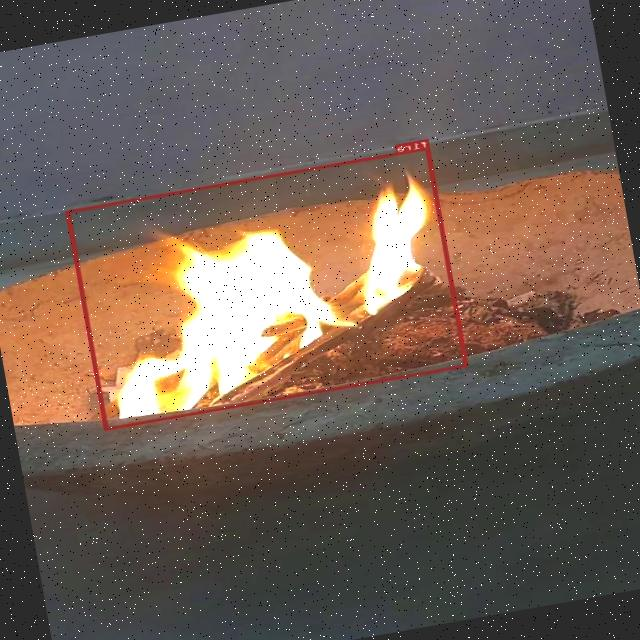fire: (66, 146, 468, 429)
